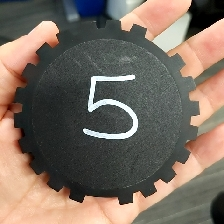gear: (12, 18, 201, 207)
missing: (128, 22, 187, 72), (68, 186, 135, 206)
